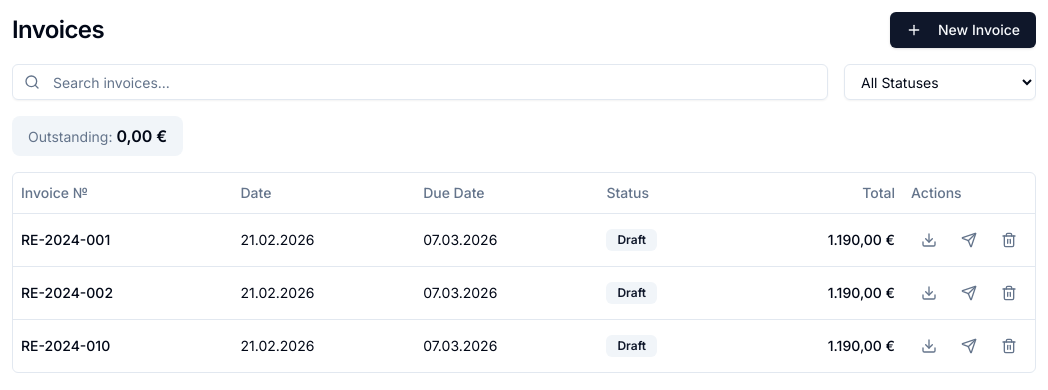
it: InvoiceList › filtering › filters by search term
In the field with placeholder "Search invoices...": [420, 82] box top-left (12, 64), bottom-right (828, 100), type "001"
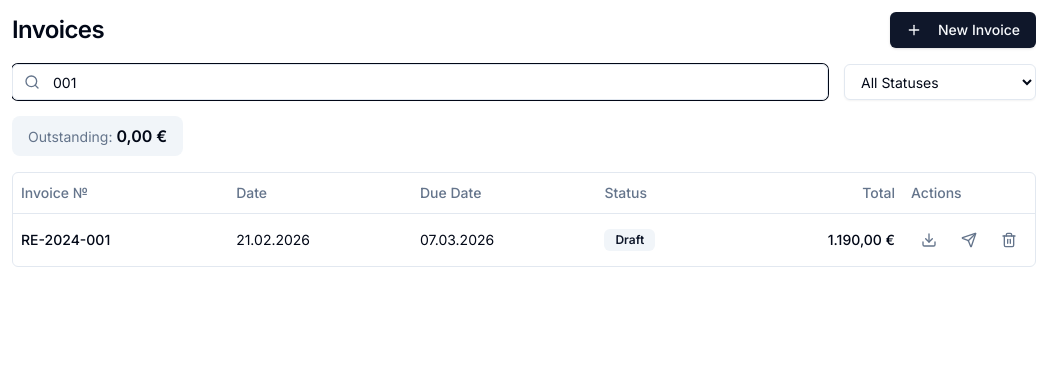
Expected: the text "RE-2024-001" is shown, top-left (13, 213), bottom-right (228, 266)
Expected: the text "RE-2024-002" is gone
Expected: the text "RE-2024-010" is gone
